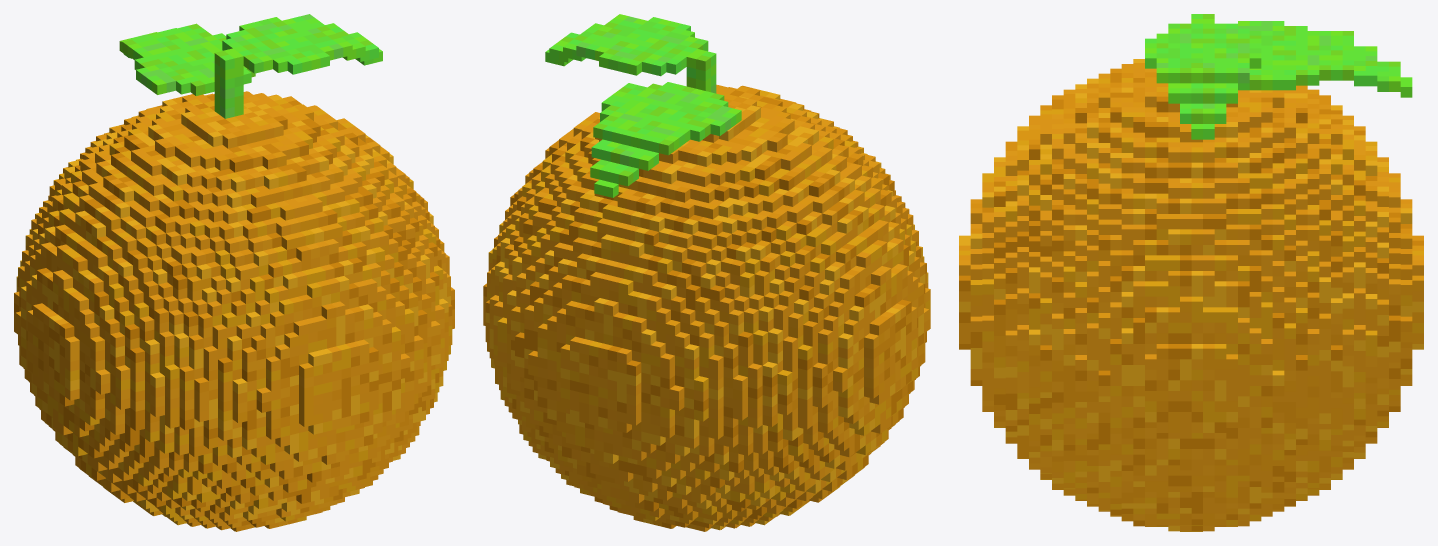
Rendered from stebsQuyt.fbx.
3 renders of one model, left to right at view 1: azimuth 30°, elevation 25°; view 2: azimuth 150°, elevation 25°; view 3: azimuth 270°, elevation 25°, orthographic. The views are drawn at different scales.
Visible parts, largest first — view 1: quyt_LOD0; view 2: quyt_LOD0; view 3: quyt_LOD0.
Part boxes in pixels (x1,y1,x2,y2): quyt_LOD0: (14,14,454,531); quyt_LOD0: (483,14,930,531); quyt_LOD0: (959,14,1423,531).
Size of what is drawn, in the model's own units: 400 by 460 by 400.
